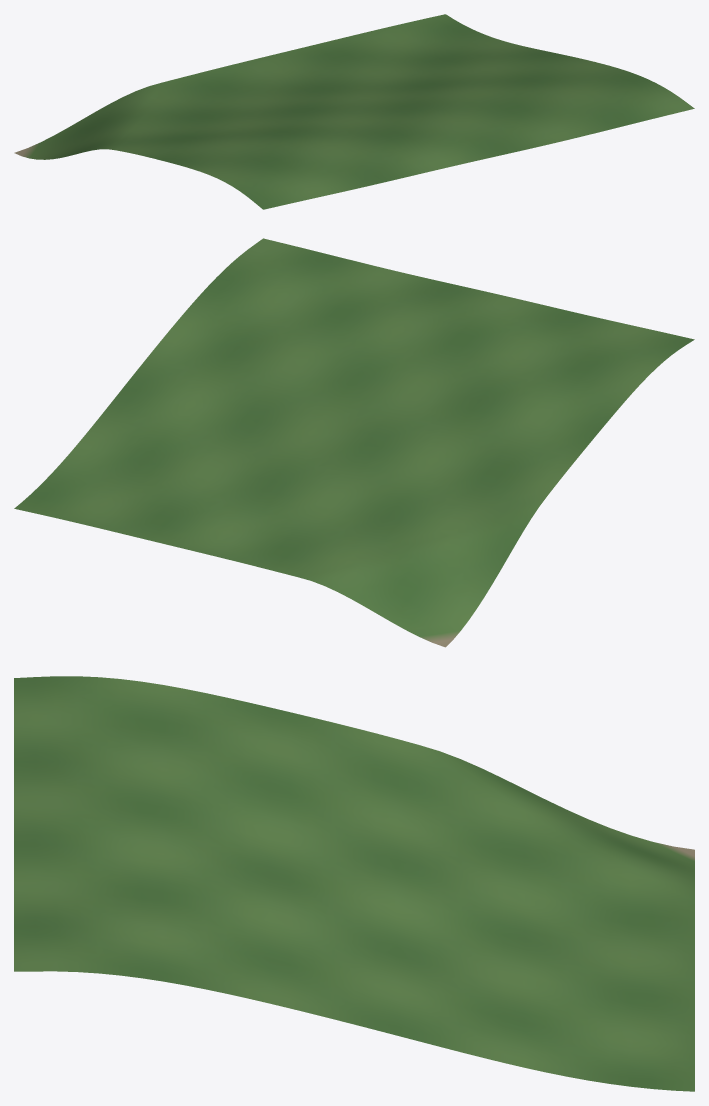
Rendered from chunk_5_12.glb.
3 views of the same model, one above another, from view 1: azimuth 30°, elevation 25°; view 2: azimuth 150°, elevation 25°; view 3: azimuth 270°, elevation 25° (orthographic). The views are drawn at different scales.
Size of the model in its own units: 512 by 144 by 512.
